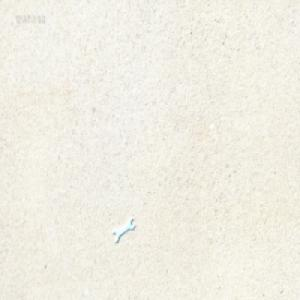Wrench: (112, 217, 134, 245)
